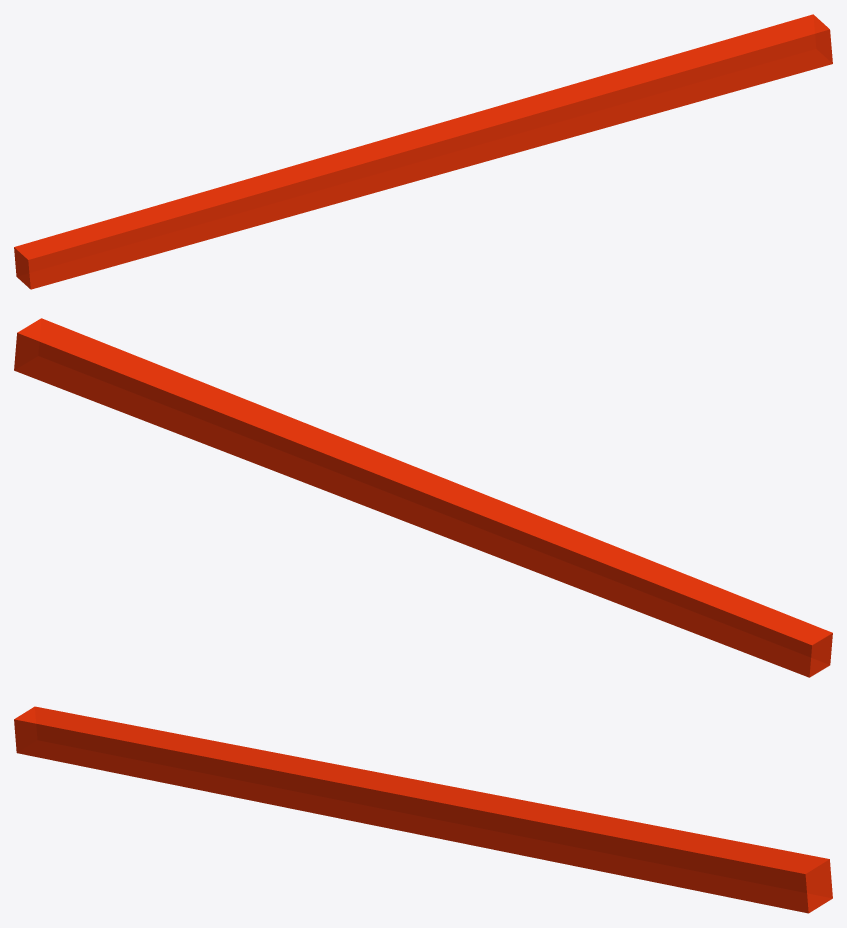
Rendered from Event_420094457_EErechit_35.fbx.
3 views of the same model, one above another, from view 1: azimuth 30°, elevation 25°; view 2: azimuth 150°, elevation 25°; view 3: azimuth 330°, elevation 25° (orthographic). The views are drawn at different scales.
Visible parts, largest first — view 1: Model; view 2: Model; view 3: Model.
Part boxes in pixels (x1,y1,x2,y2): Model: [14, 14, 832, 289]; Model: [14, 318, 832, 677]; Model: [14, 706, 832, 913].
Bounding box in the file's own units: 1.92 × 0.2476 × 0.2414.
